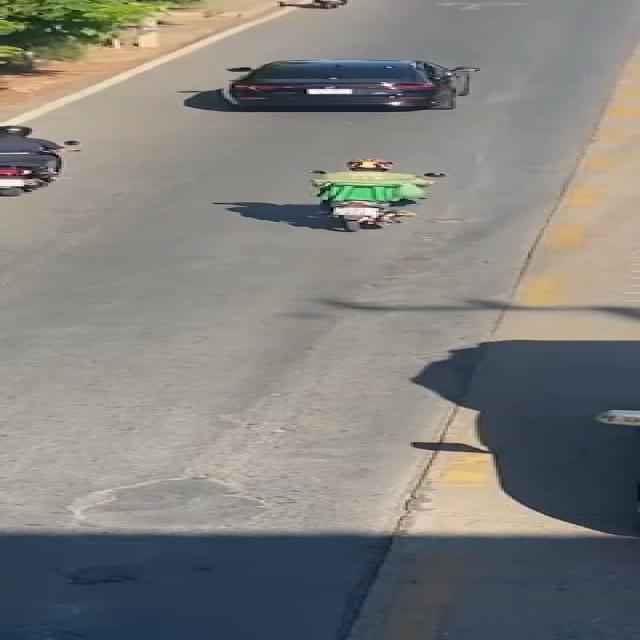car: (183, 49, 526, 117)
